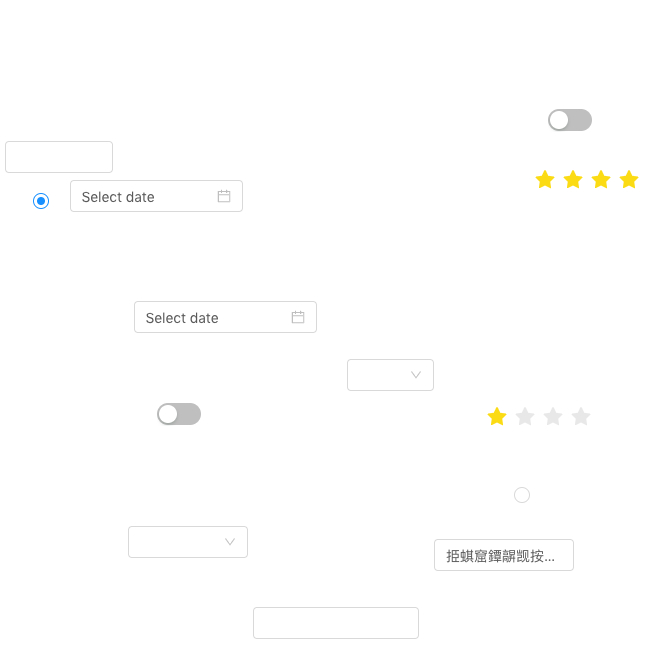DatePicker: (134, 301, 317, 333), (70, 180, 243, 212)
Input: (253, 607, 419, 639), (434, 539, 574, 571), (5, 141, 113, 173)
Radio: (514, 484, 530, 504), (33, 190, 49, 210)
Rate: (535, 163, 655, 195), (487, 400, 607, 432)
Select: (128, 526, 248, 558), (347, 359, 434, 391)
Switch: (157, 402, 201, 426), (548, 108, 592, 132)
